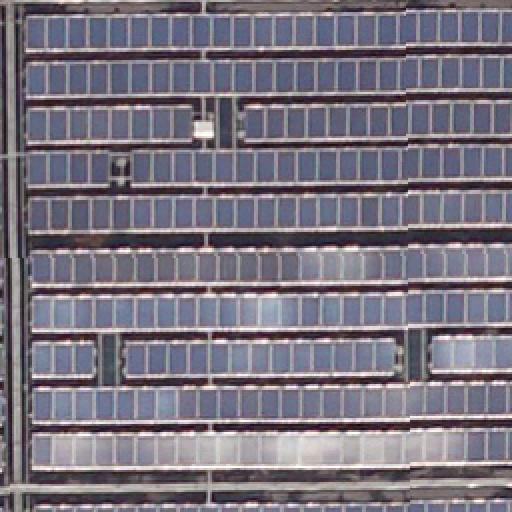solar-panel: (24, 56, 512, 100), (24, 8, 512, 52), (25, 288, 511, 332), (25, 192, 511, 236), (28, 428, 512, 472), (28, 379, 512, 421), (25, 246, 511, 286), (128, 144, 512, 188), (241, 99, 511, 141), (125, 338, 395, 378), (32, 496, 512, 512), (24, 106, 192, 146), (24, 153, 112, 191), (432, 334, 512, 374), (28, 341, 96, 379), (0, 436, 4, 472), (0, 390, 4, 426), (0, 344, 4, 380)
